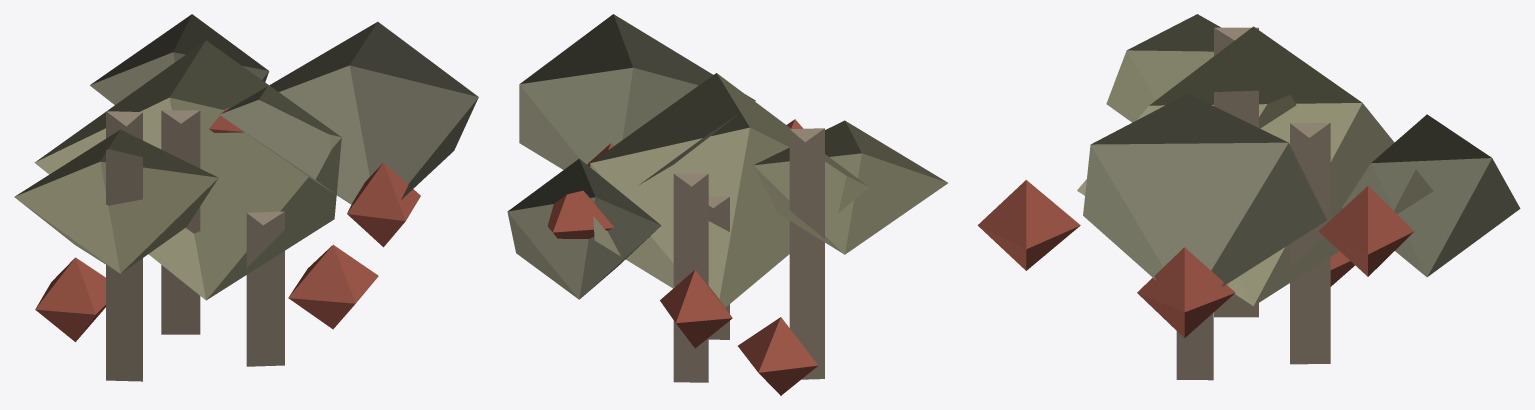
Rendered from shrub.temp.blueberry__winter.glb.
3 views of the same model, side by side, from view 1: azimuth 30°, elevation 25°; view 2: azimuth 150°, elevation 25°; view 3: azimuth 270°, elevation 25° (orthographic). The views are drawn at different scales.
Parts seen in each view (by area): view 1: shrub.temp.blueberry__winter; view 2: shrub.temp.blueberry__winter; view 3: shrub.temp.blueberry__winter.
Boxes of the visible parts, left/top/right/bottom form: shrub.temp.blueberry__winter: left=14, top=14, right=478, bottom=381; shrub.temp.blueberry__winter: left=507, top=14, right=947, bottom=395; shrub.temp.blueberry__winter: left=977, top=14, right=1520, bottom=380.
Size of the model in its own units: 1.27 by 0.9096 by 1.28.
